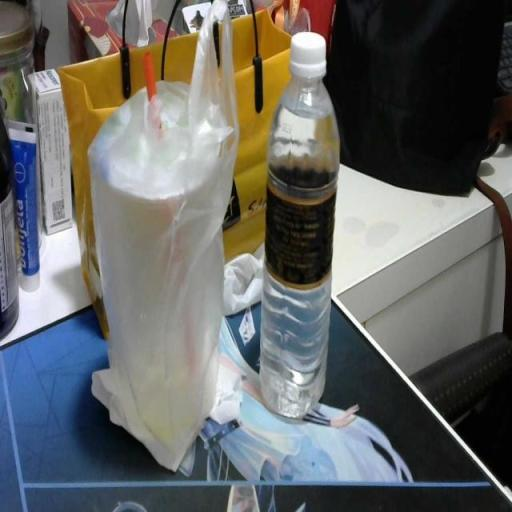plastic: (259, 32, 341, 423)
